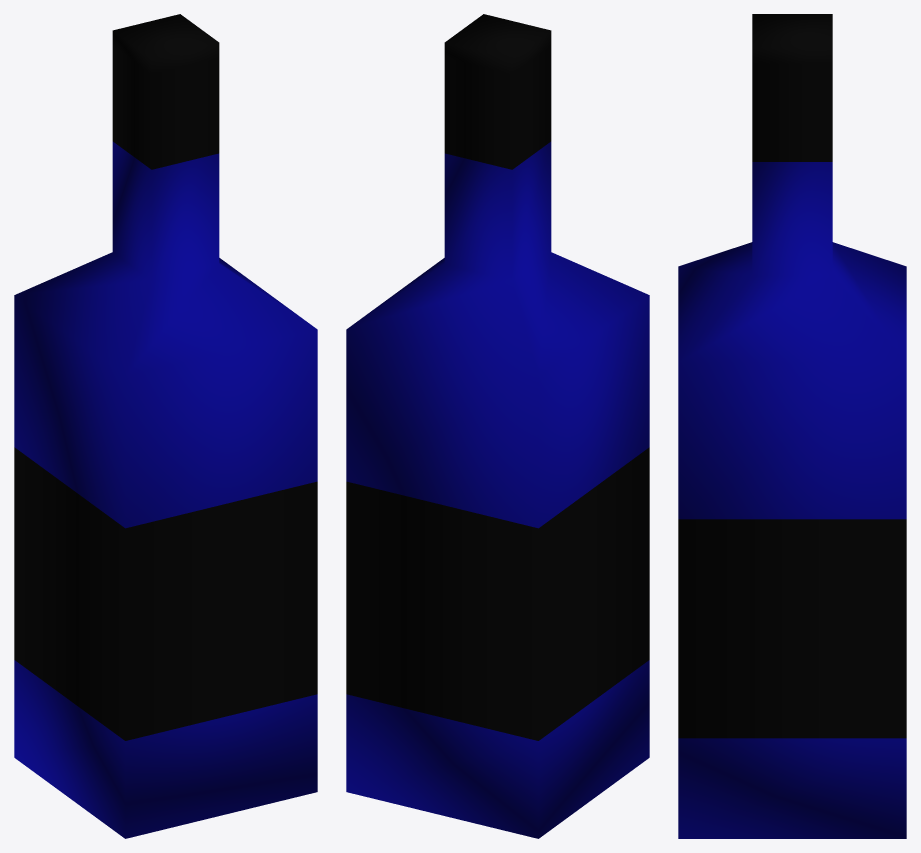
The model's file is WhiskeyBottle.glb.
The picture shows the model from 3 angles, left to right: view 1: azimuth 30°, elevation 25°; view 2: azimuth 150°, elevation 25°; view 3: azimuth 270°, elevation 25°; orthographic projection. The views are drawn at different scales.
Visible parts, largest first — view 1: WhiskeyBottle; view 2: WhiskeyBottle; view 3: WhiskeyBottle.
Part boxes in pixels (x1,y1,x2,y2): WhiskeyBottle: (14, 14, 317, 838); WhiskeyBottle: (346, 14, 649, 838); WhiskeyBottle: (678, 14, 906, 838).
Size of the model in its own units: 0.2031 by 0.7459 by 0.2031.
